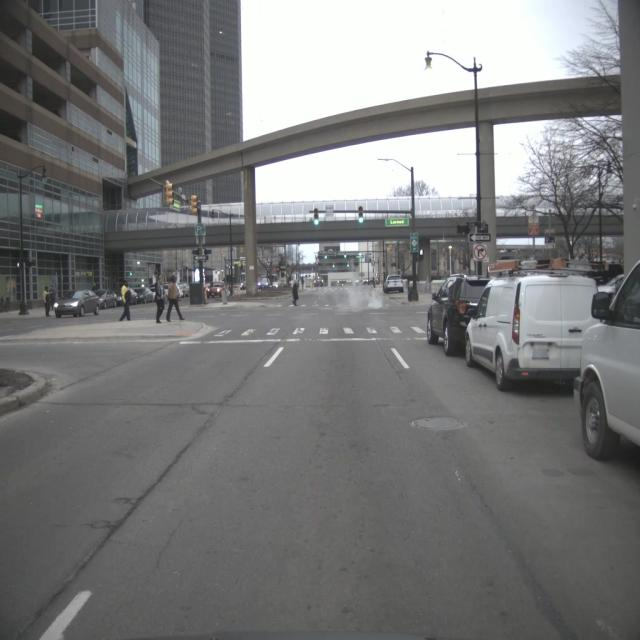humans: (168, 274, 185, 322), (154, 273, 166, 325), (120, 278, 132, 322), (43, 286, 52, 316), (293, 280, 299, 306), (300, 275, 306, 291)
